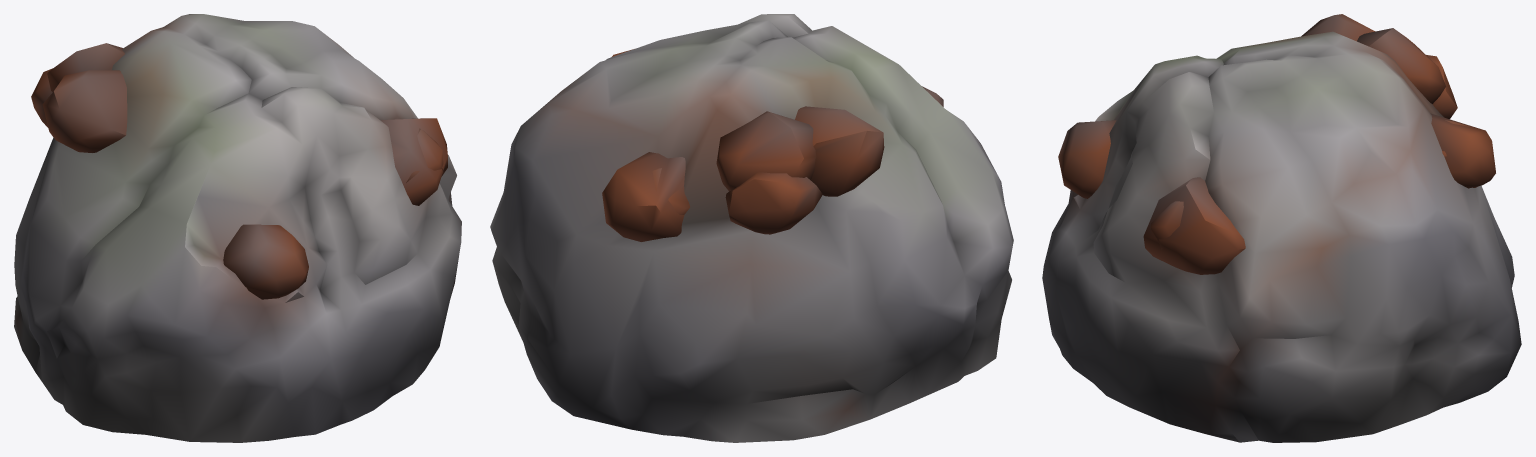
File: node-ironVein-v3.glb
3 views of the same model, side by side, from view 1: azimuth 30°, elevation 25°; view 2: azimuth 150°, elevation 25°; view 3: azimuth 270°, elevation 25° (orthographic). The views are drawn at different scales.
Parts seen in each view (by area): view 1: 0_vein.001; view 2: 0_vein.001; view 3: 0_vein.001.
Boxes of the visible parts, <box> form: 0_vein.001: <box>14,14,461,442</box>; 0_vein.001: <box>490,14,1013,442</box>; 0_vein.001: <box>1042,14,1521,442</box>.
Size of the model in its own units: 2.02 by 1.38 by 2.01.
